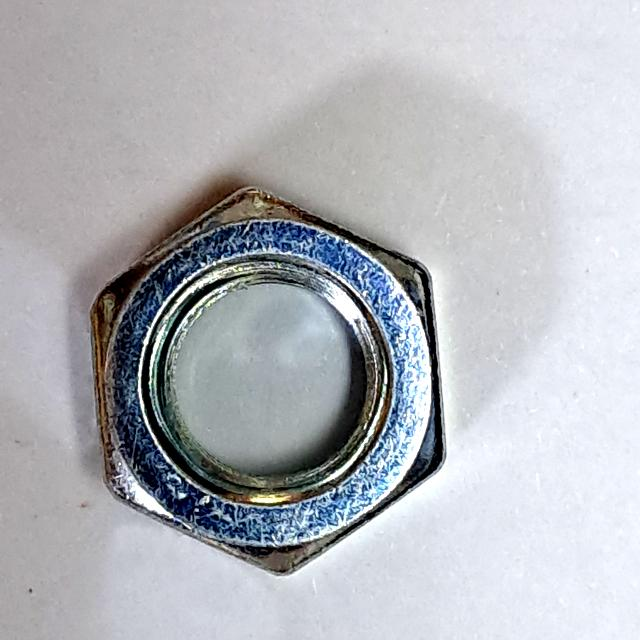Excellent: (75, 156, 468, 609)
